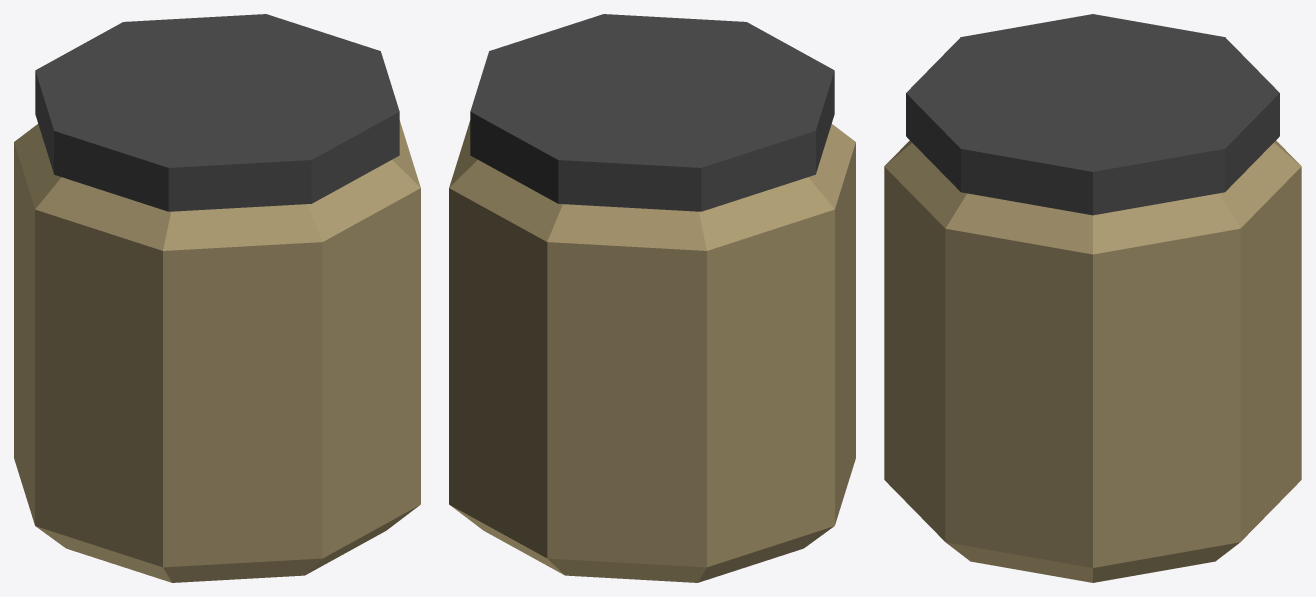
The model's file is msh_jar_02.fbx.
3 views of the same model, side by side, from view 1: azimuth 30°, elevation 25°; view 2: azimuth 150°, elevation 25°; view 3: azimuth 270°, elevation 25° (orthographic).
Visible parts, largest first — view 1: msh_jar_02; view 2: msh_jar_02; view 3: msh_jar_02.
Part boxes in pixels (x1=…): msh_jar_02: x1=14, y1=14, x2=420, y2=582; msh_jar_02: x1=449, y1=14, x2=855, y2=582; msh_jar_02: x1=884, y1=14, x2=1301, y2=582.
Size of the model in its own units: 23.07 by 25.42 by 23.07.
